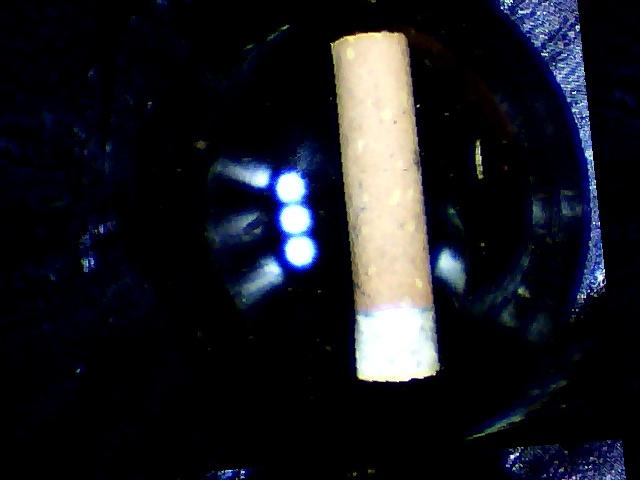megot: (314, 16, 448, 396)
